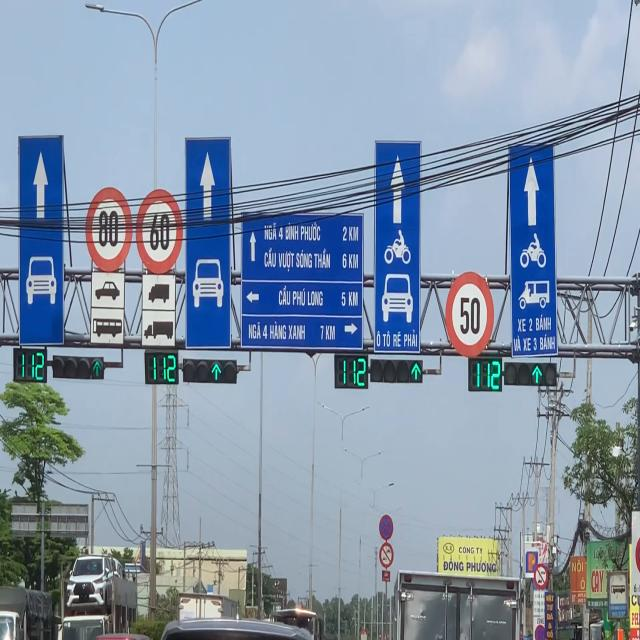Cam con lai: (534, 561, 548, 591), (380, 544, 395, 568)
Cam dung va do: (378, 514, 394, 542)
Toc do toi da: (84, 182, 133, 274), (446, 268, 494, 358), (134, 188, 182, 273)
